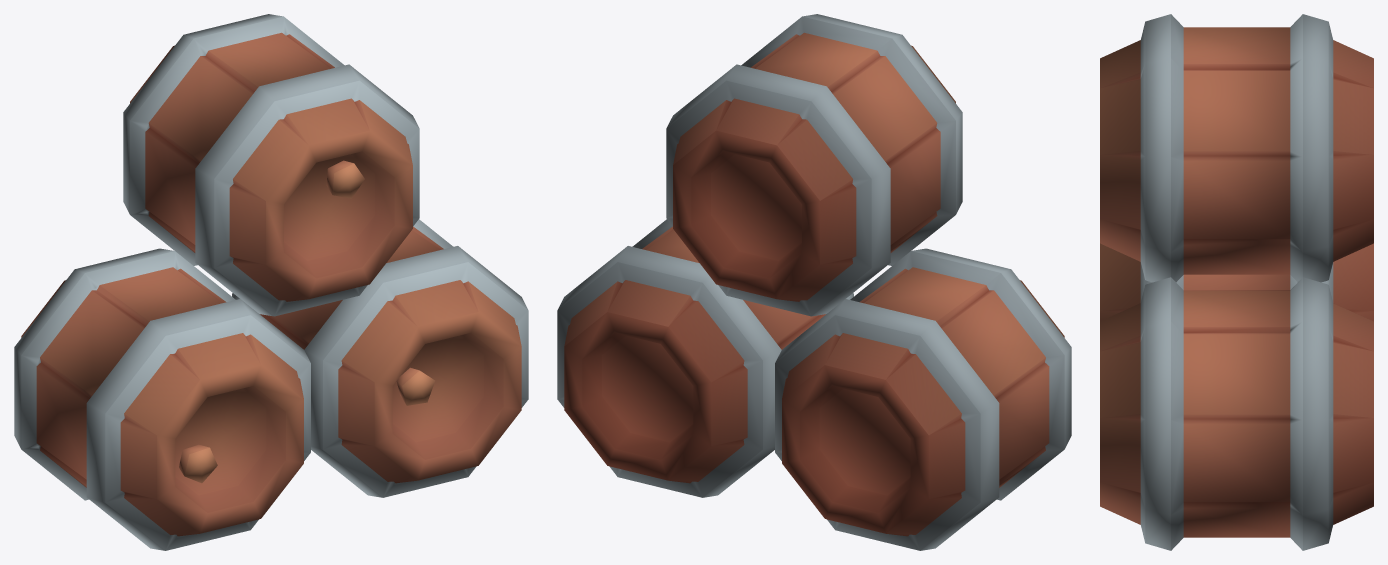
Rendered from barrel_small-optimized.glb.
The picture shows the model from 3 angles, left to right: view 1: azimuth 30°, elevation 25°; view 2: azimuth 150°, elevation 25°; view 3: azimuth 270°, elevation 25°; orthographic projection.
Visible parts, largest first — view 1: barrel_small_stack; view 2: barrel_small_stack; view 3: barrel_small_stack.
Boxes of the visible parts, x1=… form: barrel_small_stack: x1=14, y1=14, x2=528, y2=550; barrel_small_stack: x1=557, y1=14, x2=1071, y2=550; barrel_small_stack: x1=1100, y1=14, x2=1373, y2=550.
Size of the model in its own units: 1.85 by 1.77 by 1.
1 material, 1 textured.
